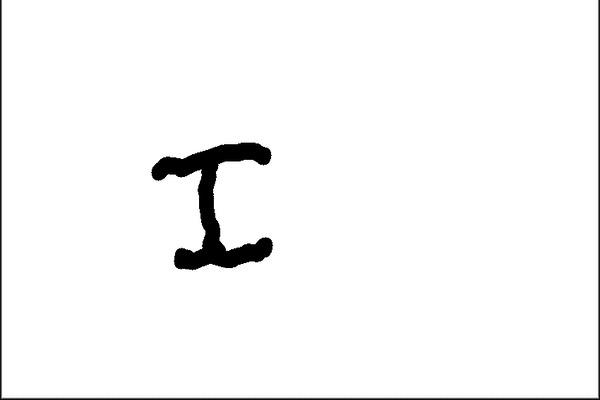i: (147, 138, 282, 276)
